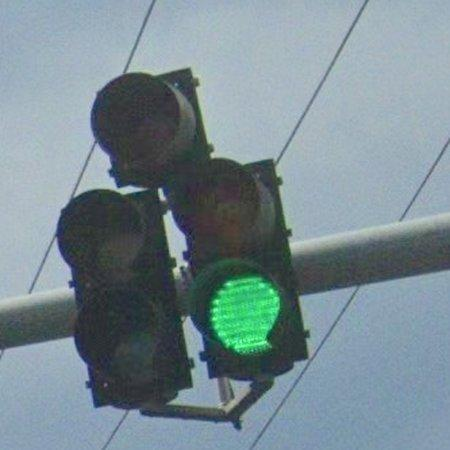traffic lights: (165, 159, 308, 381)
